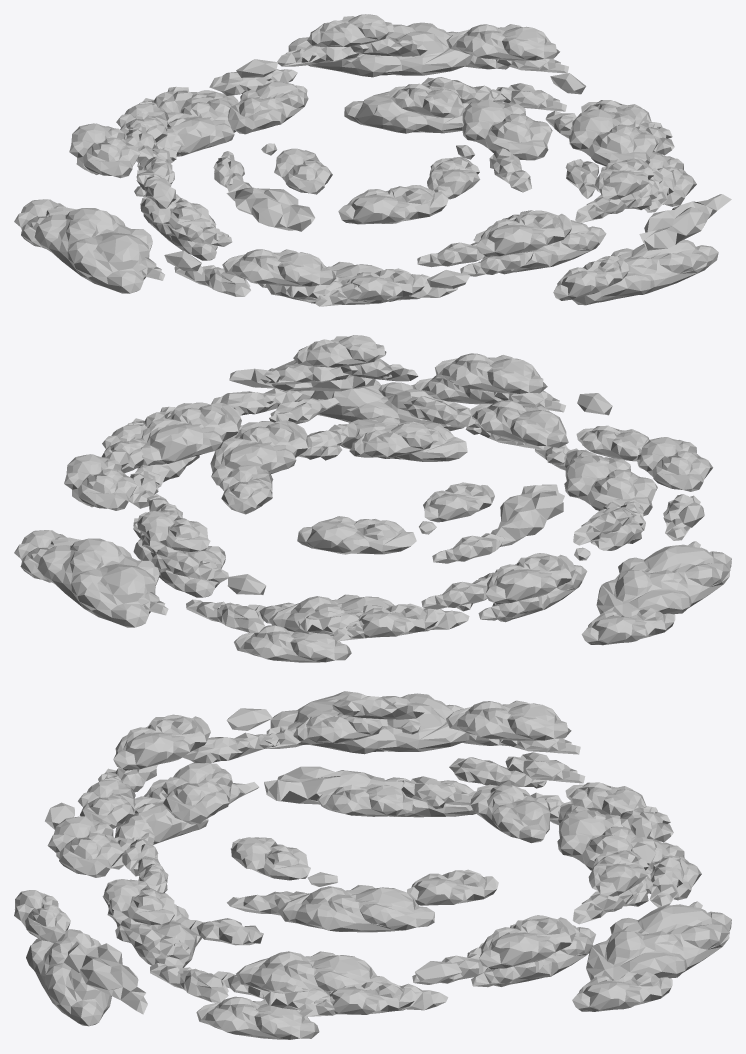
File: SM_Env_CloudRing_01.glb
3 renders of one model, top to bottom at view 1: azimuth 30°, elevation 25°; view 2: azimuth 150°, elevation 25°; view 3: azimuth 270°, elevation 25°, orthographic. The views are drawn at different scales.
Parts seen in each view (by area): view 1: SM_Env_CloudRing_01; view 2: SM_Env_CloudRing_01; view 3: SM_Env_CloudRing_01.
Part boxes in pixels (x1,y1,x2,y2): SM_Env_CloudRing_01: (14, 14, 731, 306); SM_Env_CloudRing_01: (14, 335, 731, 662); SM_Env_CloudRing_01: (14, 691, 731, 1039).
Size of the model in its own units: 280315 by 45410 by 271127.
1 material, 1 textured.
